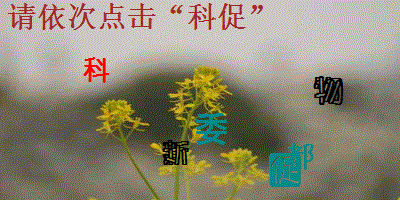text: (267, 152, 302, 188), (194, 112, 229, 146), (313, 75, 345, 106), (286, 143, 316, 172), (161, 139, 190, 166), (83, 56, 110, 83)
